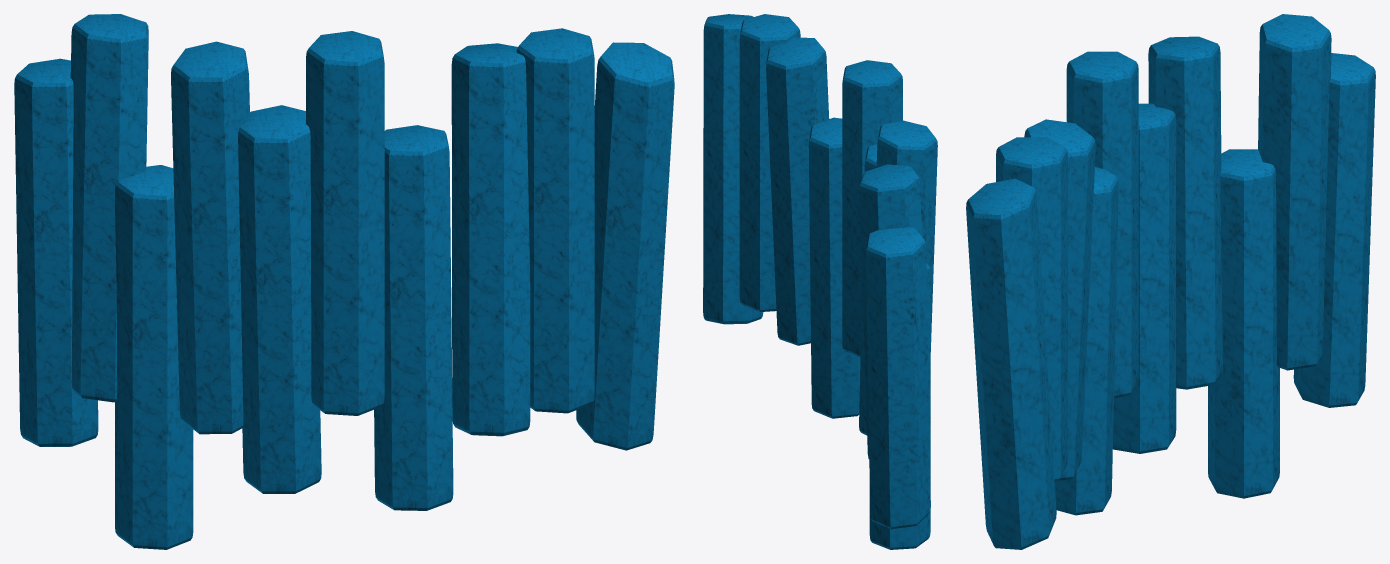
File: PuertasSimples.FBX
3 renders of one model, left to right at view 1: azimuth 30°, elevation 25°; view 2: azimuth 150°, elevation 25°; view 3: azimuth 270°, elevation 25°, orthographic. The views are drawn at different scales.
Parts seen in each view (by area): view 1: BaseSistemaMontañoso010, BaseSistemaMontañoso012, Puerta, BaseSistemaMontañoso007, BaseSistemaMontañoso009, BaseSistemaMontañoso006, BaseSistemaMontañoso011, BaseSistemaMontañoso005, BaseSistemaMontañoso003, BaseSistemaMontañoso004; view 2: BaseSistemaMontañoso003, BaseSistemaMontañoso010, BaseSistemaMontañoso012, BaseSistemaMontañoso009, BaseSistemaMontañoso011, Puerta, BaseSistemaMontañoso004, BaseSistemaMontañoso006, BaseSistemaMontañoso005, BaseSistemaMontañoso007; view 3: BaseSistemaMontañoso012, BaseSistemaMontañoso005, BaseSistemaMontañoso004, BaseSistemaMontañoso006, BaseSistemaMontañoso003, BaseSistemaMontañoso007, Puerta, BaseSistemaMontañoso009, BaseSistemaMontañoso011, BaseSistemaMontañoso010.
Part boxes in pixels (x1=…): BaseSistemaMontañoso010: x1=451, y1=43, x2=530, y2=436; BaseSistemaMontañoso012: x1=576, y1=42, x2=674, y2=450; Puerta: x1=306, y1=31, x2=384, y2=415; BaseSistemaMontañoso007: x1=238, y1=105, x2=321, y2=493; BaseSistemaMontañoso009: x1=374, y1=125, x2=453, y2=510; BaseSistemaMontañoso006: x1=171, y1=41, x2=250, y2=434; BaseSistemaMontañoso011: x1=516, y1=28, x2=594, y2=413; BaseSistemaMontañoso005: x1=115, y1=165, x2=193, y2=549; BaseSistemaMontañoso003: x1=14, y1=58, x2=98, y2=446; BaseSistemaMontañoso004: x1=70, y1=14, x2=148, y2=402; BaseSistemaMontañoso003: x1=865, y1=227, x2=930, y2=529; BaseSistemaMontañoso010: x1=766, y1=37, x2=829, y2=345; BaseSistemaMontañoso012: x1=703, y1=14, x2=763, y2=324; BaseSistemaMontañoso009: x1=808, y1=117, x2=860, y2=418; BaseSistemaMontañoso011: x1=739, y1=14, x2=800, y2=311; Puerta: x1=842, y1=60, x2=902, y2=356; BaseSistemaMontañoso004: x1=859, y1=164, x2=921, y2=459; BaseSistemaMontañoso006: x1=876, y1=120, x2=937, y2=351; BaseSistemaMontañoso005: x1=869, y1=263, x2=930, y2=549; BaseSistemaMontañoso007: x1=859, y1=144, x2=877, y2=435; BaseSistemaMontañoso012: x1=966, y1=178, x2=1056, y2=549; BaseSistemaMontañoso005: x1=1208, y1=149, x2=1279, y2=498; BaseSistemaMontañoso004: x1=1258, y1=14, x2=1331, y2=370; BaseSistemaMontañoso006: x1=1148, y1=36, x2=1222, y2=389; BaseSistemaMontañoso003: x1=1293, y1=53, x2=1375, y2=407; BaseSistemaMontañoso007: x1=1113, y1=103, x2=1176, y2=453; Puerta: x1=1066, y1=51, x2=1138, y2=398; BaseSistemaMontañoso009: x1=1054, y1=167, x2=1118, y2=515; BaseSistemaMontañoso011: x1=996, y1=137, x2=1067, y2=481; BaseSistemaMontañoso010: x1=1024, y1=119, x2=1095, y2=480.
Size of the model in its own units: 2547 by 2151 by 2733.
Materials: 1 (1 with a texture image).
